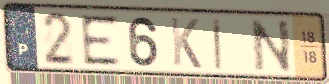2: (40, 10, 76, 68)
6: (126, 14, 161, 69)
E: (77, 13, 124, 67)
I: (210, 16, 224, 72)
K: (168, 15, 204, 71)
N: (248, 18, 294, 75)
